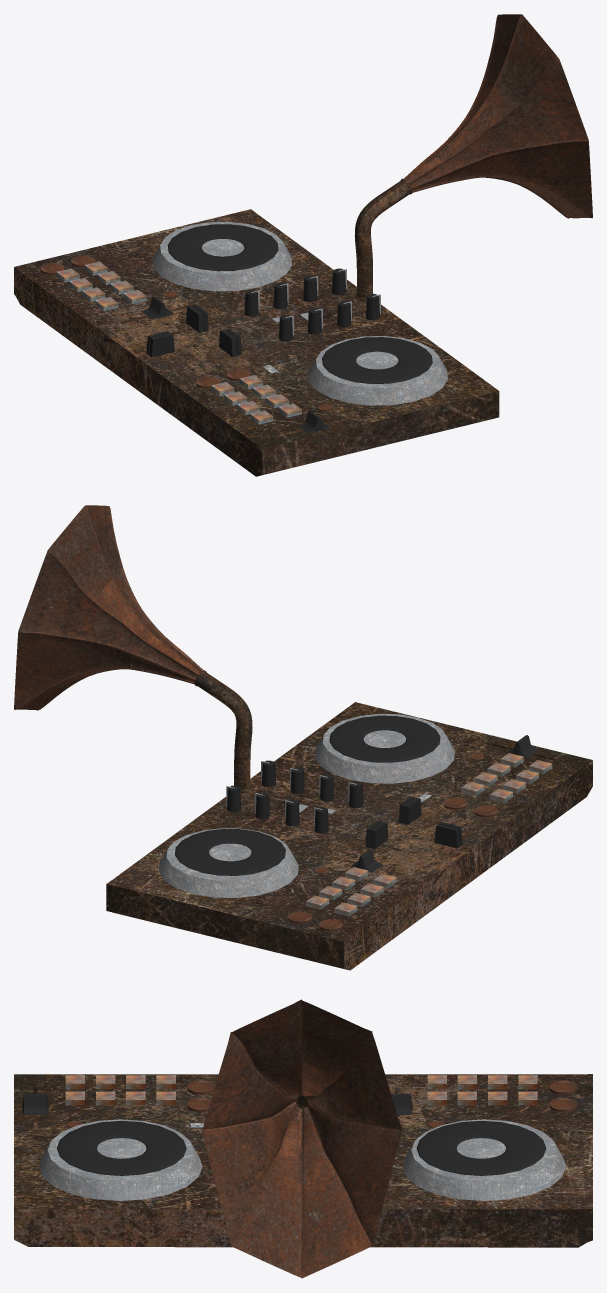
Rendered from steampunkDJSetTExturedandFixed.fbx.
3 views of the same model, one above another, from view 1: azimuth 30°, elevation 25°; view 2: azimuth 150°, elevation 25°; view 3: azimuth 270°, elevation 25° (orthographic). The views are drawn at different scales.
Visible parts, largest first — view 1: pCube8; view 2: pCube8; view 3: pCube8.
Boxes of the visible parts, x1,y1,x2,y2 form: pCube8: (14,14,592,476); pCube8: (14,505,592,970); pCube8: (14,999,592,1278).
Size of the model in its own units: 10.01 by 6.3 by 9.98.
10 materials, 8 textured.
